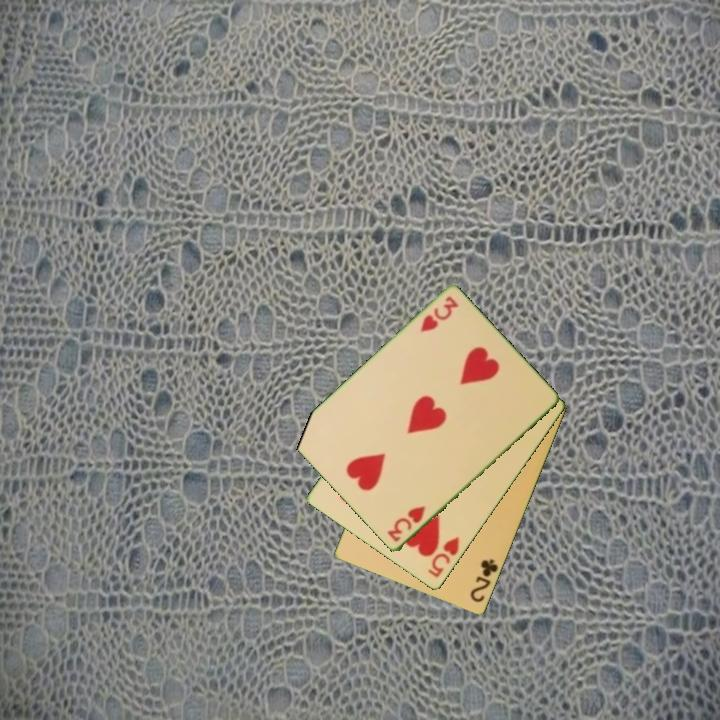2c: (467, 555, 501, 606)
3h: (384, 502, 429, 545), (417, 293, 462, 335)
5h: (424, 533, 462, 581)
